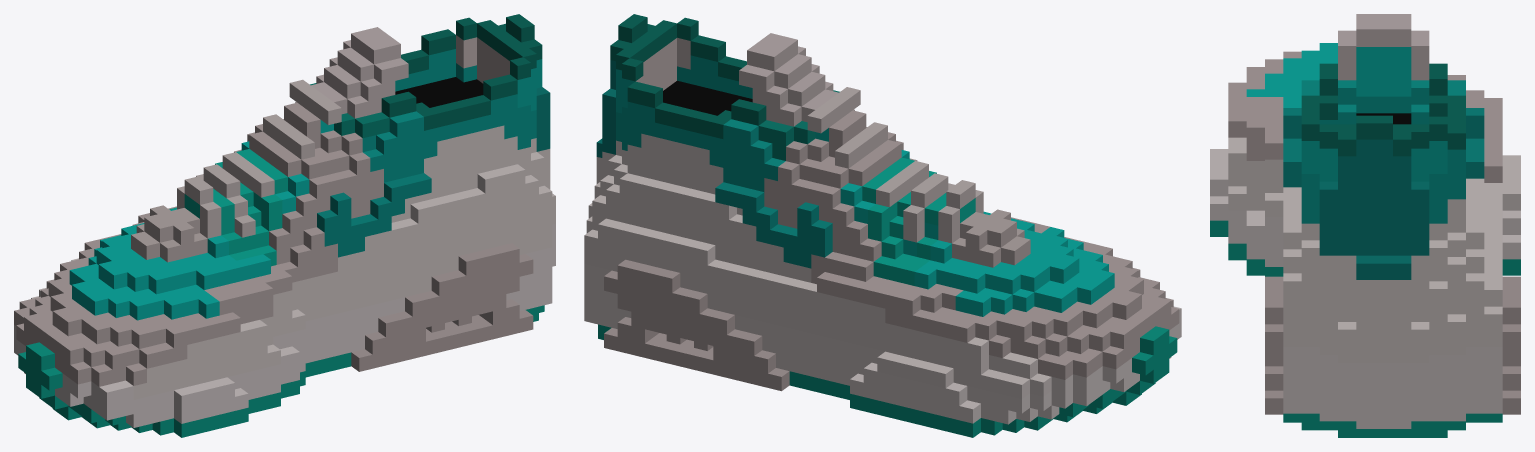
File: Middle Teal.fbx
The picture shows the model from 3 angles, left to right: view 1: azimuth 30°, elevation 25°; view 2: azimuth 150°, elevation 25°; view 3: azimuth 270°, elevation 25°; orthographic projection. The views are drawn at different scales.
Visible parts, largest first — view 1: Untitled; view 2: Untitled; view 3: Untitled.
Part boxes in pixels (bbox=[...]): Untitled: bbox=[14, 14, 555, 437]; Untitled: bbox=[584, 14, 1181, 437]; Untitled: bbox=[1210, 14, 1520, 437].
Bounding box in the file's own units: 390 × 200 × 170.
